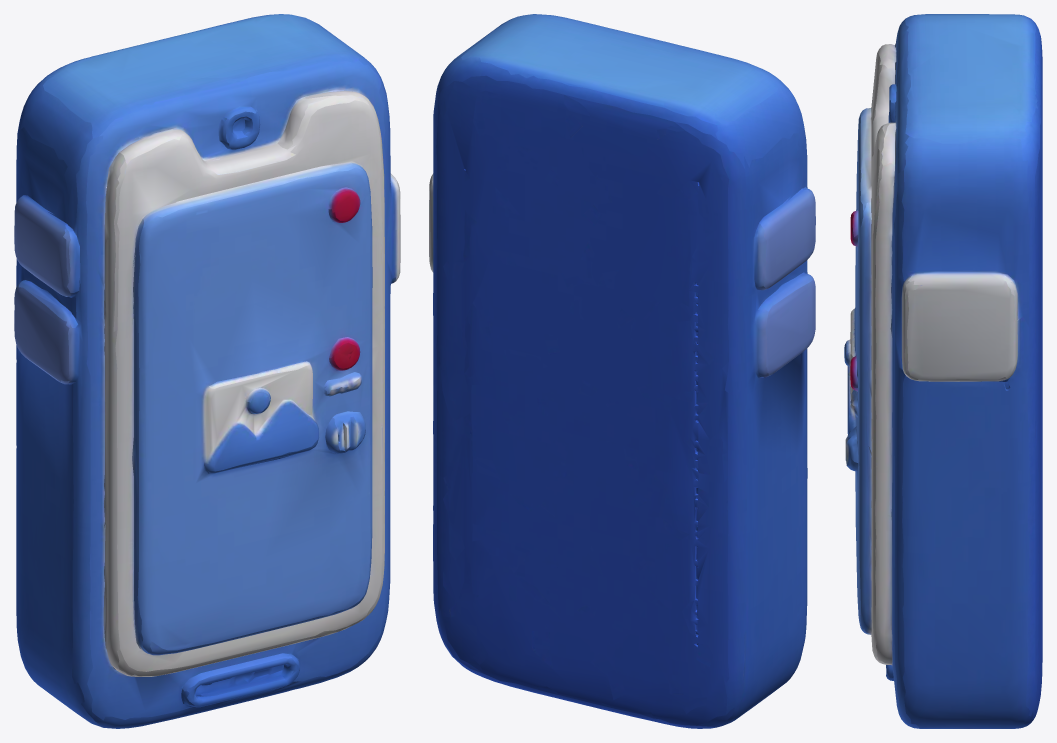
Rendered from i_scan.glb.
3 renders of one model, left to right at view 1: azimuth 30°, elevation 25°; view 2: azimuth 150°, elevation 25°; view 3: azimuth 270°, elevation 25°, orthographic. The views are drawn at different scales.
Visible parts, largest first — view 1: geometry_0; view 2: geometry_0; view 3: geometry_0.
Boxes of the visible parts, x1,y1,x2,y2 form: geometry_0: [14, 14, 400, 728]; geometry_0: [429, 14, 815, 728]; geometry_0: [844, 14, 1042, 728].
Bounding box in the file's own units: 0.1499 × 0.2658 × 0.0787.
1 material, 1 textured.
